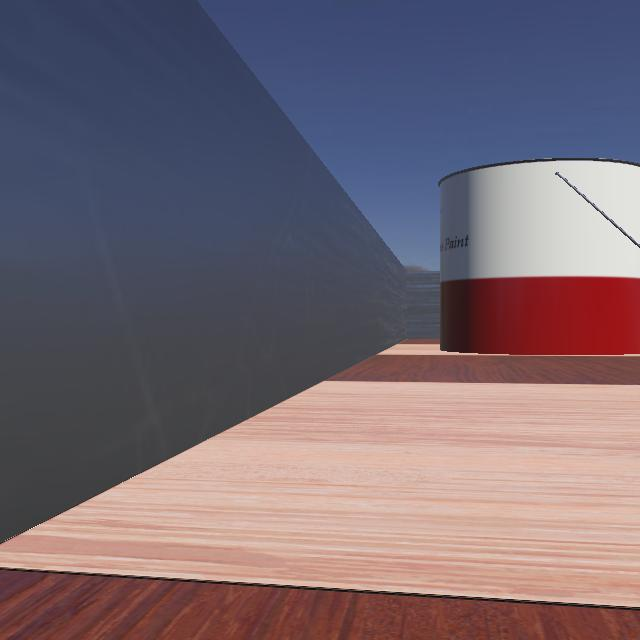paint-bucket: (422, 152, 640, 358)
